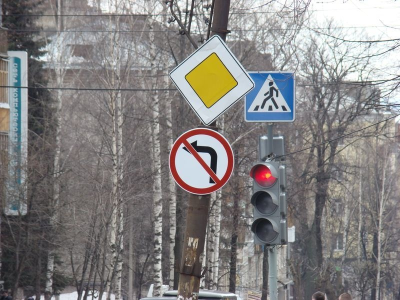crosswalk: (247, 71, 294, 121)
priority_road: (178, 47, 243, 119)
trafficlight_red: (251, 164, 281, 244)
